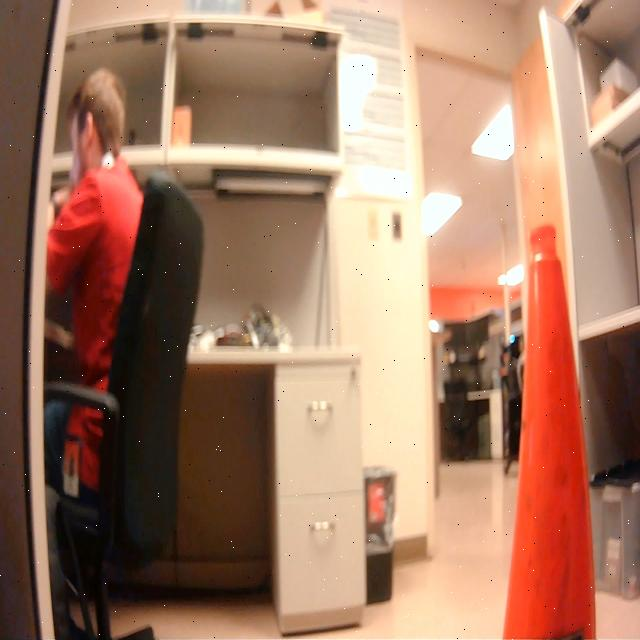traffic cone: (491, 212, 607, 640)
